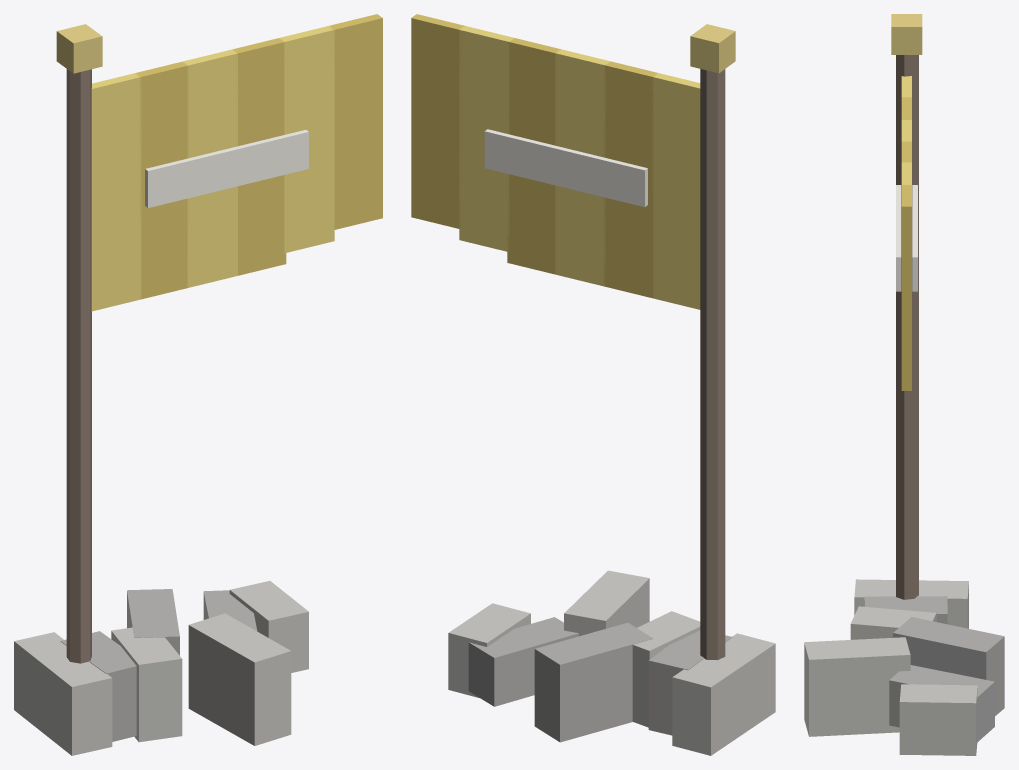
Rendered from ws_fx_alert_1.glb.
3 views of the same model, side by side, from view 1: azimuth 30°, elevation 25°; view 2: azimuth 150°, elevation 25°; view 3: azimuth 270°, elevation 25° (orthographic). The views are drawn at different scales.
Parts seen in each view (by area): view 1: ws_fx_alert_1; view 2: ws_fx_alert_1; view 3: ws_fx_alert_1.
Part boxes in pixels (x1,y1,x2,y2): ws_fx_alert_1: [14, 14, 382, 755]; ws_fx_alert_1: [411, 14, 775, 755]; ws_fx_alert_1: [804, 14, 1004, 755].
Size of the model in its own units: 1.04 by 2.08 by 0.586.
